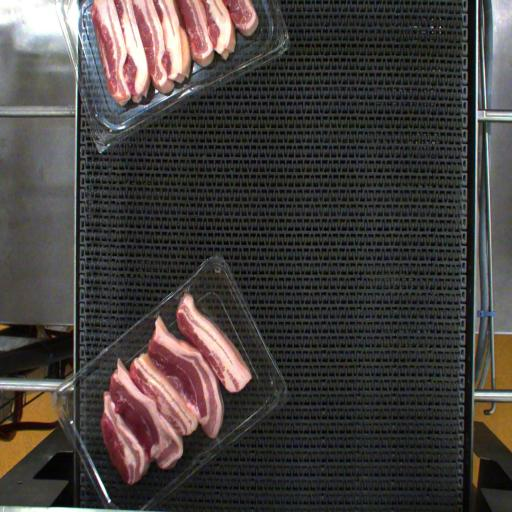packaging-error: (172, 280, 196, 304), (149, 305, 165, 322)
